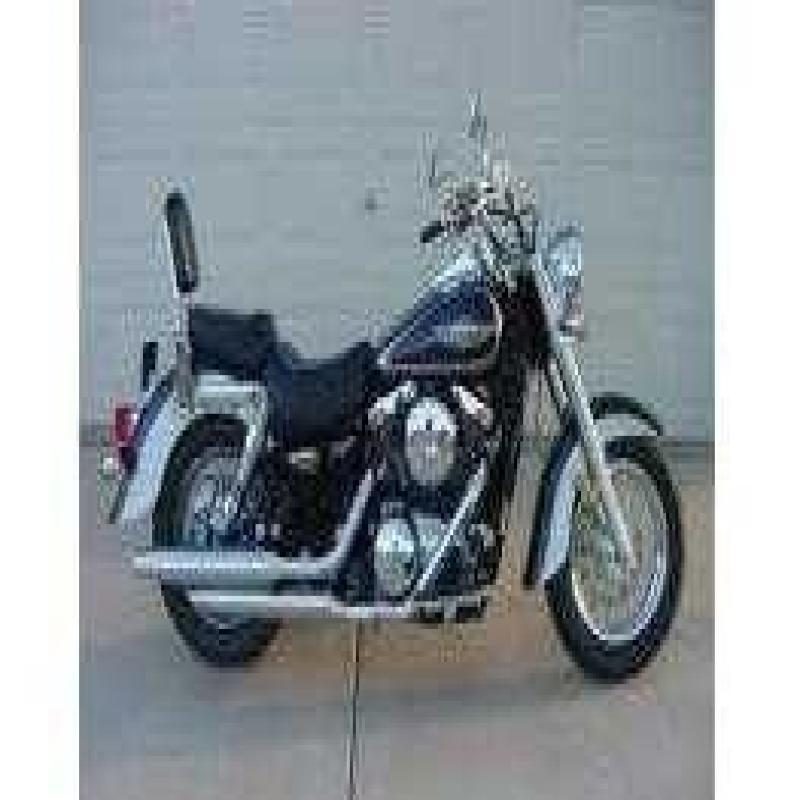bike: (92, 54, 706, 682)
